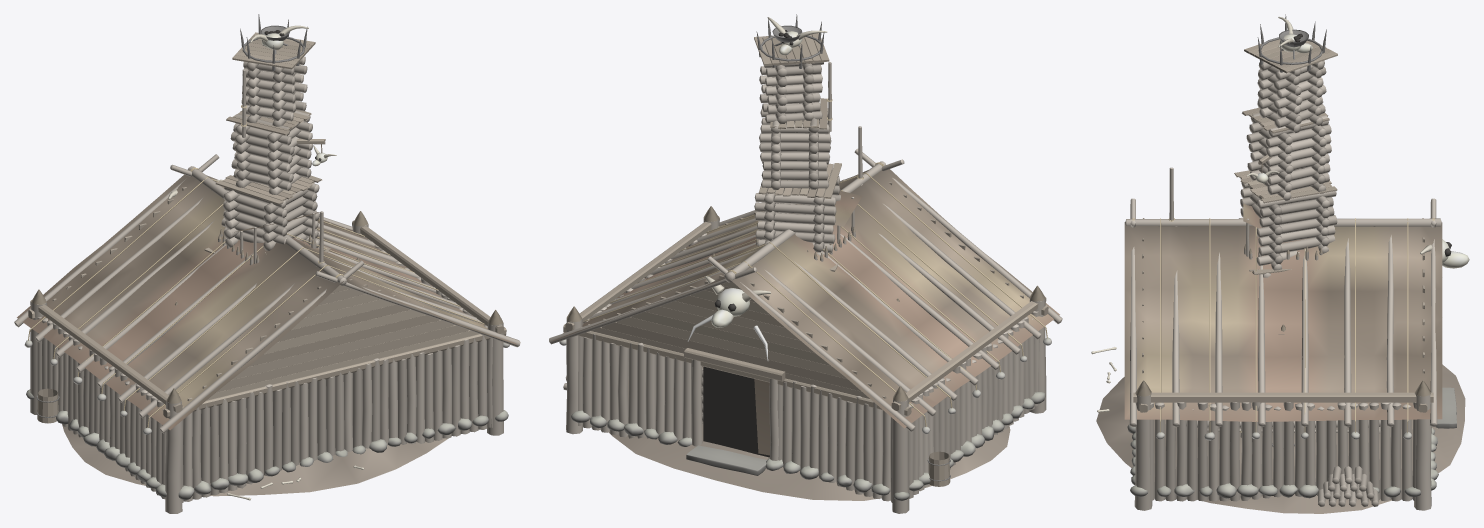
The model's file is ork_hold.glb.
3 views of the same model, side by side, from view 1: azimuth 30°, elevation 25°; view 2: azimuth 150°, elevation 25°; view 3: azimuth 270°, elevation 25° (orthographic). The views are drawn at different scales.
Parts seen in each view (by area): view 1: hold_hall, hold_spire, hold_tower; view 2: hold_hall, hold_spire, hold_tower; view 3: hold_hall, hold_spire, hold_tower.
Part boxes in pixels (x1,y1,x2,y2): hold_hall: (14,154,520,513); hold_spire: (204,14,336,254); hold_tower: (218,212,319,265); hold_hall: (549,126,1062,513); hold_spire: (754,14,841,271); hold_tower: (756,190,862,261); hold_hall: (1091,167,1469,513); hold_spire: (1234,14,1337,277); hold_tower: (1243,188,1322,260).
Bounding box in the file's own units: 12.98 × 13.23 × 10.84.
